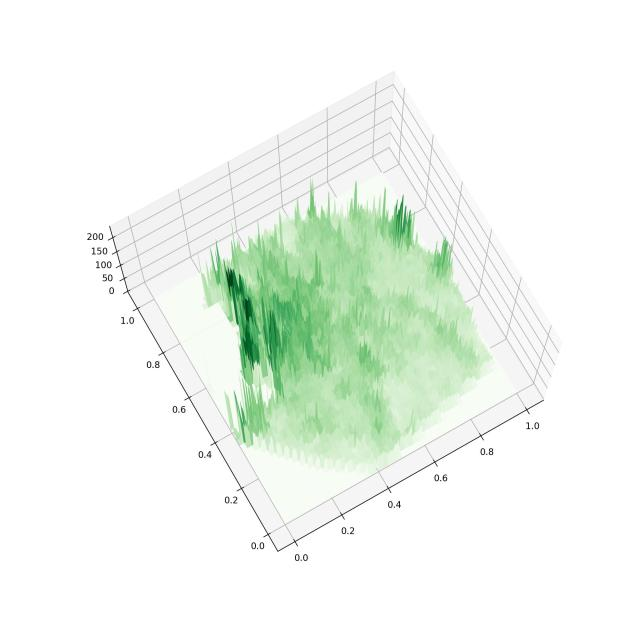fir: (59, 42, 586, 594)
